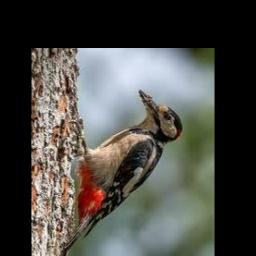Woodpecker: (60, 90, 182, 256)
